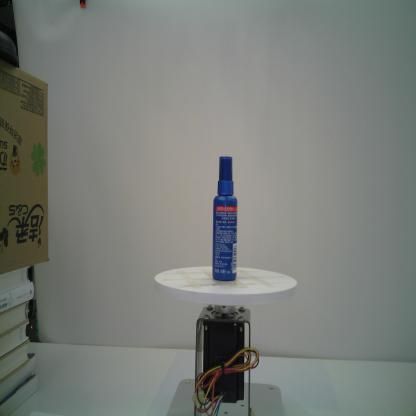Personal Hygiene: (212, 156, 238, 282)
